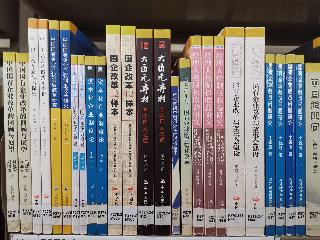book-spine: (243, 28, 266, 237), (225, 27, 246, 238), (151, 28, 171, 237), (45, 21, 63, 235), (120, 25, 138, 236), (106, 24, 123, 235), (37, 19, 53, 235), (27, 18, 43, 233), (137, 29, 153, 236), (3, 51, 21, 233), (15, 54, 33, 234), (190, 35, 205, 235), (201, 36, 216, 236), (177, 60, 193, 236), (214, 37, 228, 237), (305, 63, 320, 236), (60, 20, 72, 235), (84, 56, 98, 235), (94, 57, 108, 236), (294, 54, 307, 237), (284, 55, 297, 237), (265, 53, 277, 236), (75, 56, 87, 236), (274, 54, 285, 238), (69, 55, 80, 234), (170, 75, 180, 234)
